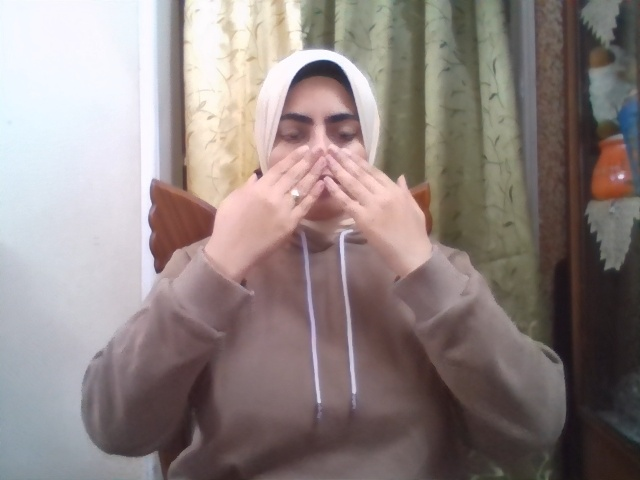thanks: (212, 144, 430, 268)
